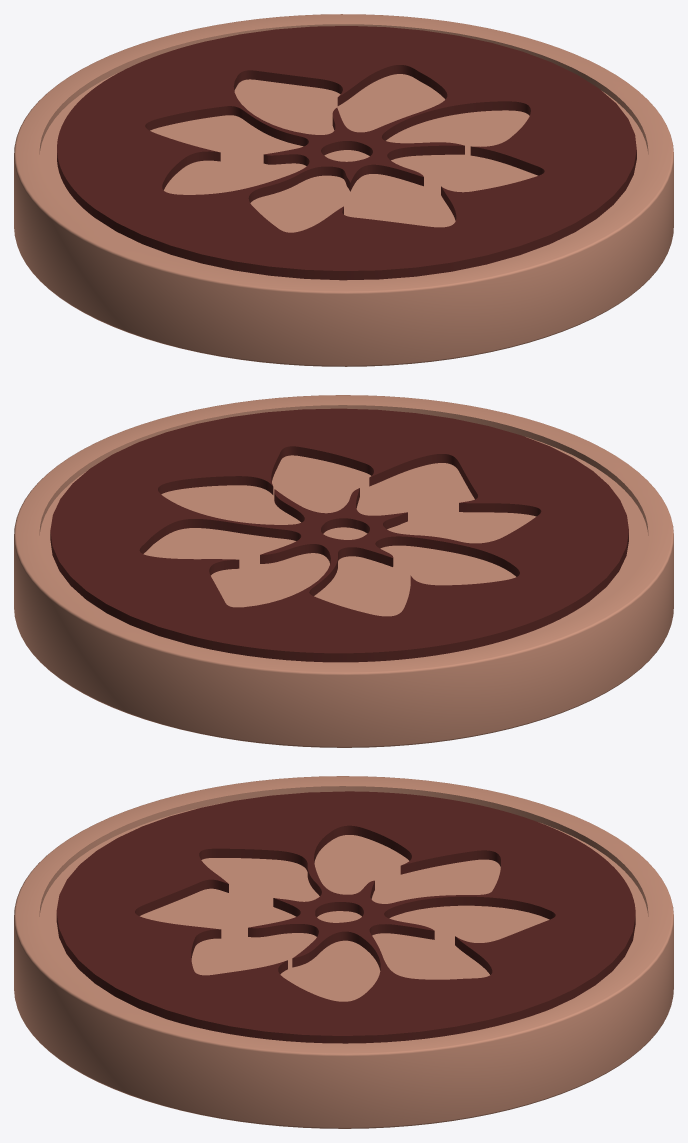
File: Jasmine_W.fbx
3 views of the same model, one above another, from view 1: azimuth 30°, elevation 25°; view 2: azimuth 150°, elevation 25°; view 3: azimuth 270°, elevation 25° (orthographic).
Visible parts, largest first — view 1: Tile02; view 2: Tile02; view 3: Tile02.
Boxes of the visible parts, left/top/right/bottom form: Tile02: left=14, top=14, right=673, bottom=366; Tile02: left=14, top=395, right=673, bottom=747; Tile02: left=14, top=776, right=673, bottom=1128.
Size of the model in its own units: 13.25 by 1.73 by 13.25.
